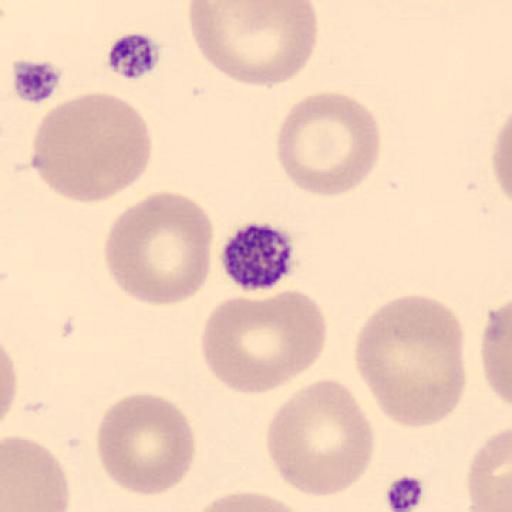Platelet: (218, 220, 298, 293), (104, 29, 165, 81)
RBC: (353, 292, 468, 430), (31, 90, 154, 204), (200, 288, 329, 396), (264, 378, 377, 499), (103, 191, 214, 307), (188, 0, 320, 89), (275, 90, 382, 199), (96, 392, 197, 498), (2, 434, 71, 512), (466, 426, 512, 512), (479, 298, 512, 409), (180, 489, 318, 512), (490, 112, 512, 205), (1, 342, 19, 421)
